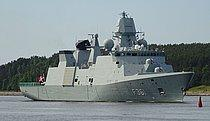MIL_Ship: (17, 14, 195, 104)
